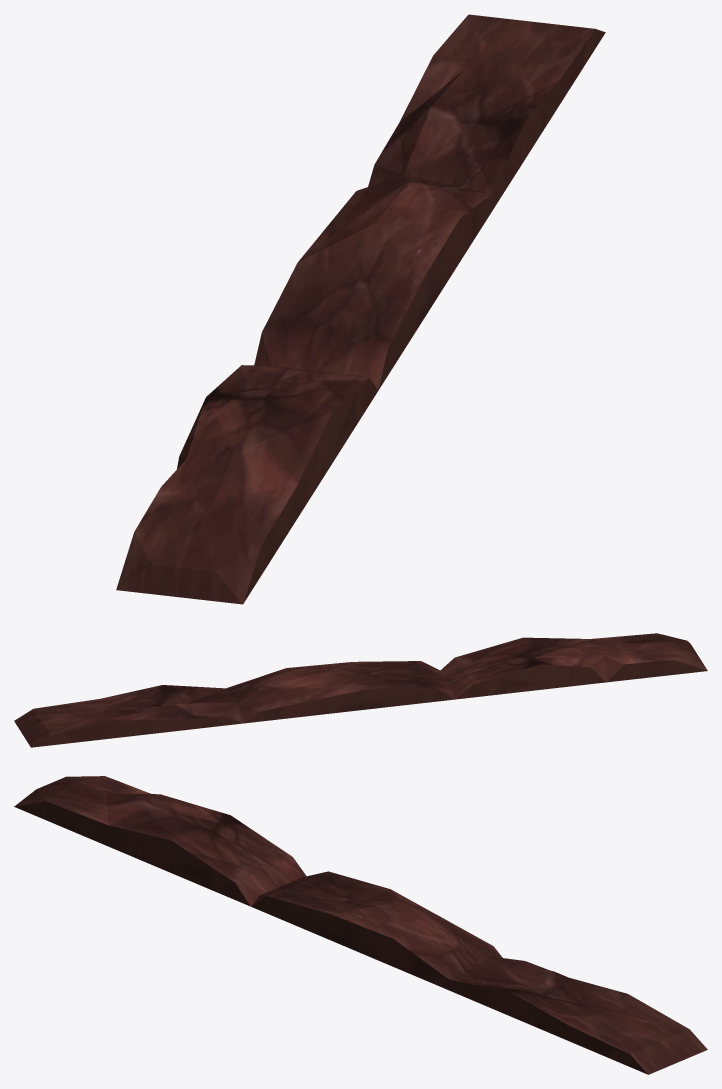
The model's file is lava_broken_diagonal_02.fbx.
3 renders of one model, top to bottom at view 1: azimuth 30°, elevation 25°; view 2: azimuth 150°, elevation 25°; view 3: azimuth 270°, elevation 25°, orthographic. The views are drawn at different scales.
Parts seen in each view (by area): view 1: obj1.062; view 2: obj1.062; view 3: obj1.062.
Part boxes in pixels (box(x1,y1,x2,y2)): obj1.062: box(116, 14, 605, 604); obj1.062: box(14, 633, 707, 747); obj1.062: box(14, 776, 707, 1074).
Size of the model in its own units: 4.38 by 0.2624 by 4.37.
